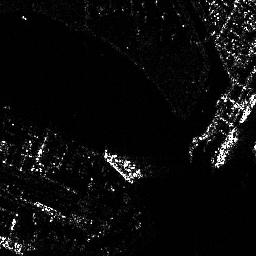ship: (214, 133, 238, 168), (239, 98, 256, 123)
